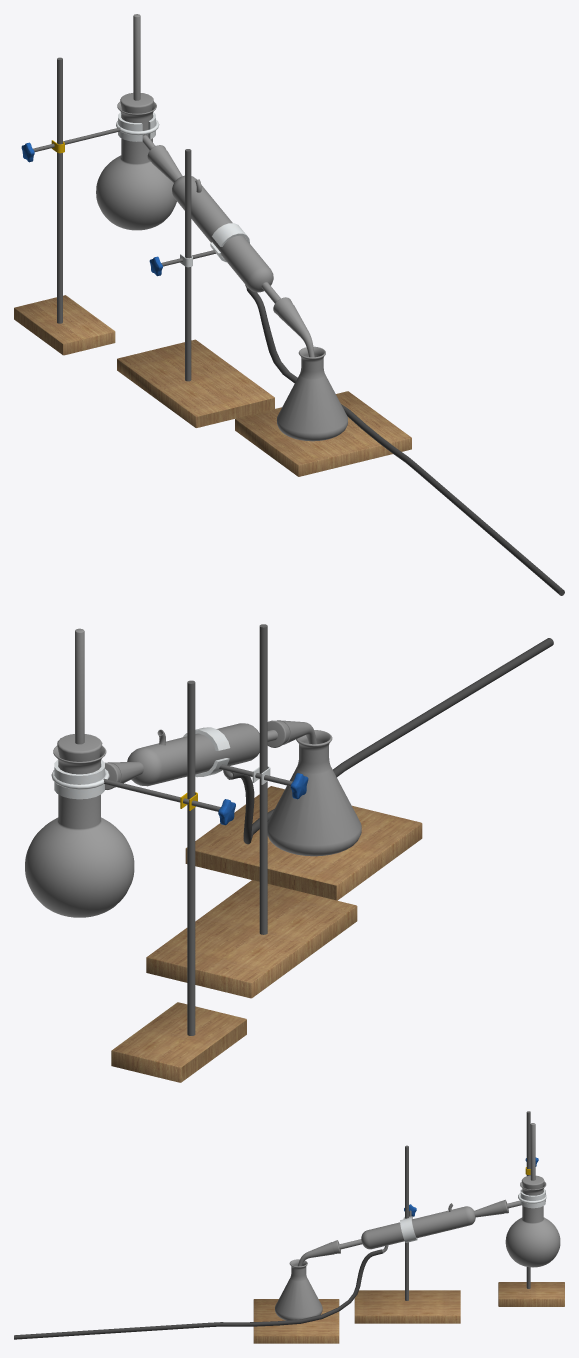
The model's file is SM_凯式定氮仪.fbx.
3 renders of one model, top to bottom at view 1: azimuth 30°, elevation 25°; view 2: azimuth 150°, elevation 25°; view 3: azimuth 270°, elevation 25°, orthographic. The views are drawn at different scales.
Parts seen in each view (by area): view 1: SM_凯式定氮仪; view 2: SM_凯式定氮仪; view 3: SM_凯式定氮仪.
Part boxes in pixels (bbox=[...]): SM_凯式定氮仪: bbox=[14, 14, 564, 595]; SM_凯式定氮仪: bbox=[25, 624, 553, 1082]; SM_凯式定氮仪: bbox=[14, 1111, 564, 1343].
Size of the model in its own units: 344 by 564 by 1383.
